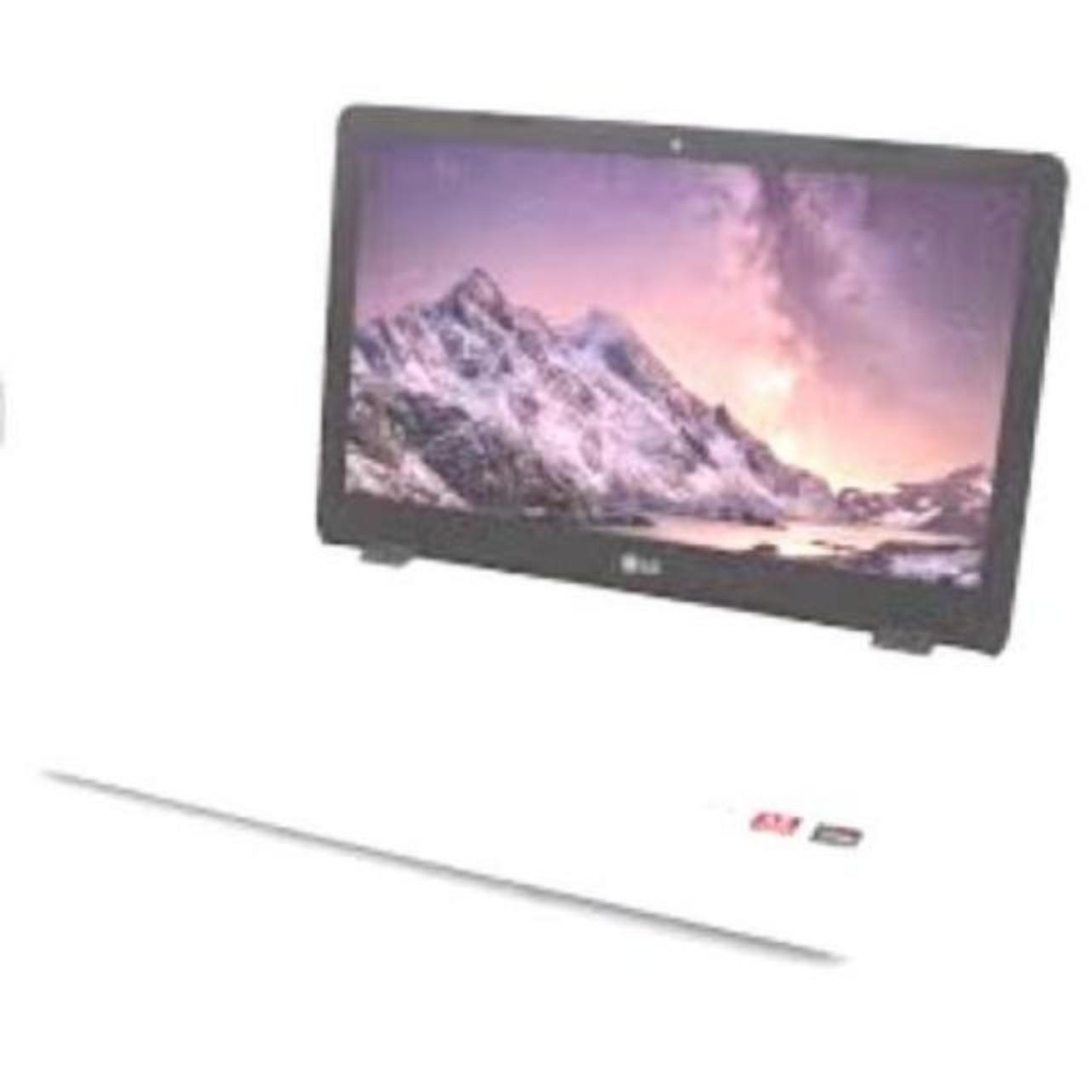laptop: (35, 59, 1034, 1003)
